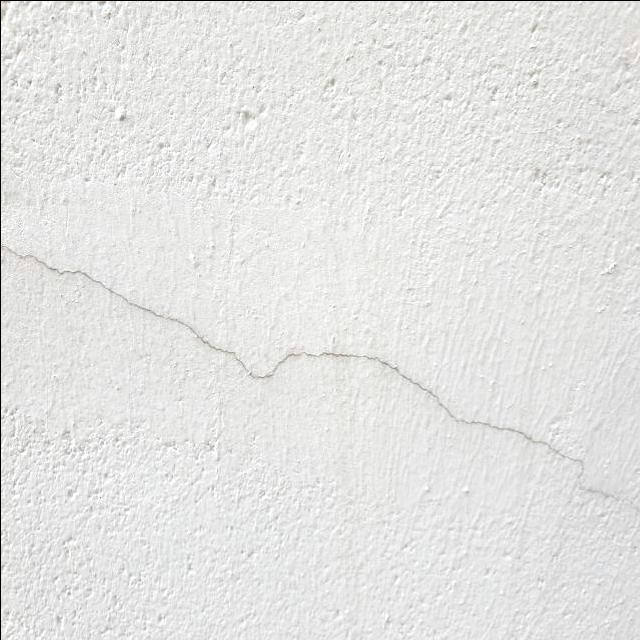SurfaceCrack: (1, 211, 639, 520)
